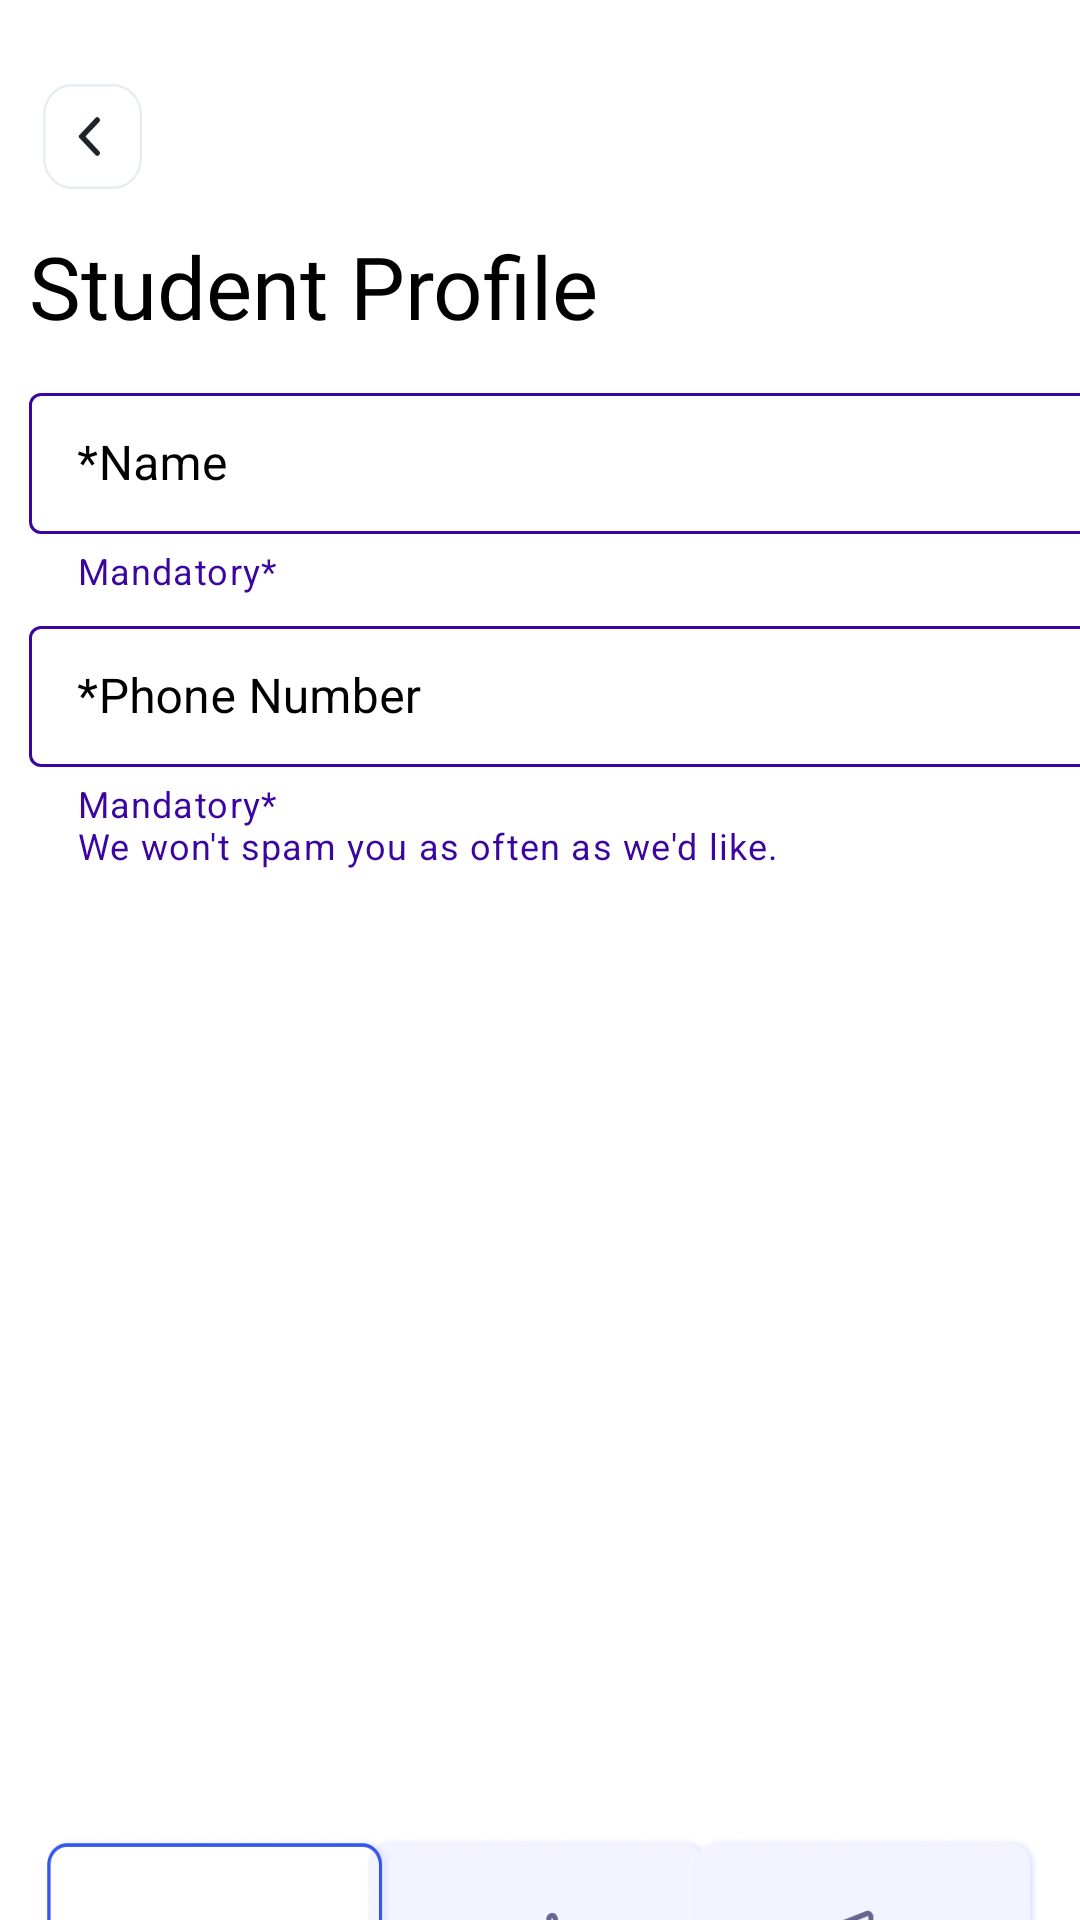

Screen size 1080x1920. Icon name, then its box in pixels as (x1, y1, x2, y2):
back: (78, 117, 100, 156)
